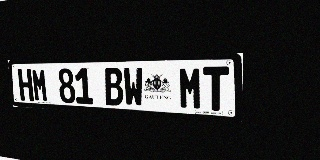1: (74, 68, 93, 104)
8: (58, 68, 76, 103)
B: (103, 68, 124, 106)
H: (17, 69, 34, 101)
M: (178, 67, 203, 110), (31, 69, 48, 102)
T: (203, 66, 229, 111)
W: (123, 67, 144, 107)
